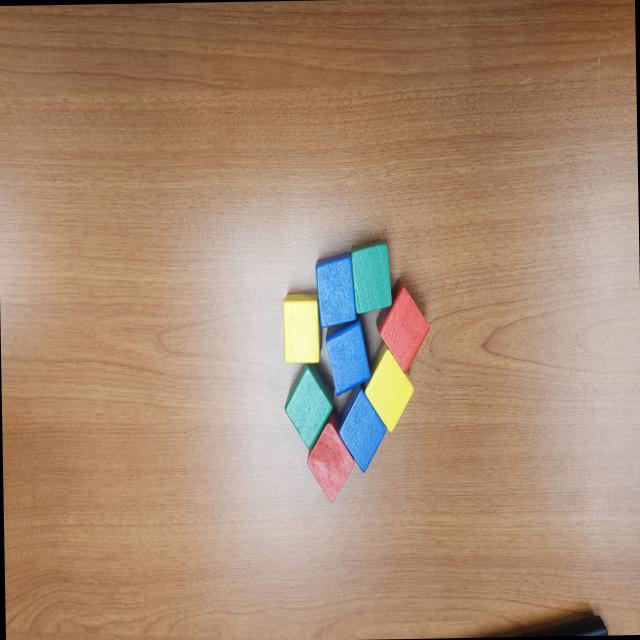blue: (336, 383, 388, 472), (322, 316, 371, 399), (314, 251, 356, 328)
green: (282, 362, 336, 449), (350, 238, 392, 317)
red: (374, 277, 431, 376), (306, 409, 355, 502)
yellow: (363, 338, 415, 432), (282, 292, 320, 364)
